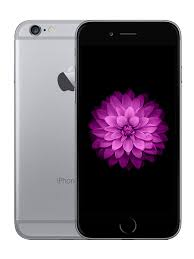iphone6: (11, 14, 182, 245), (72, 14, 180, 243)
